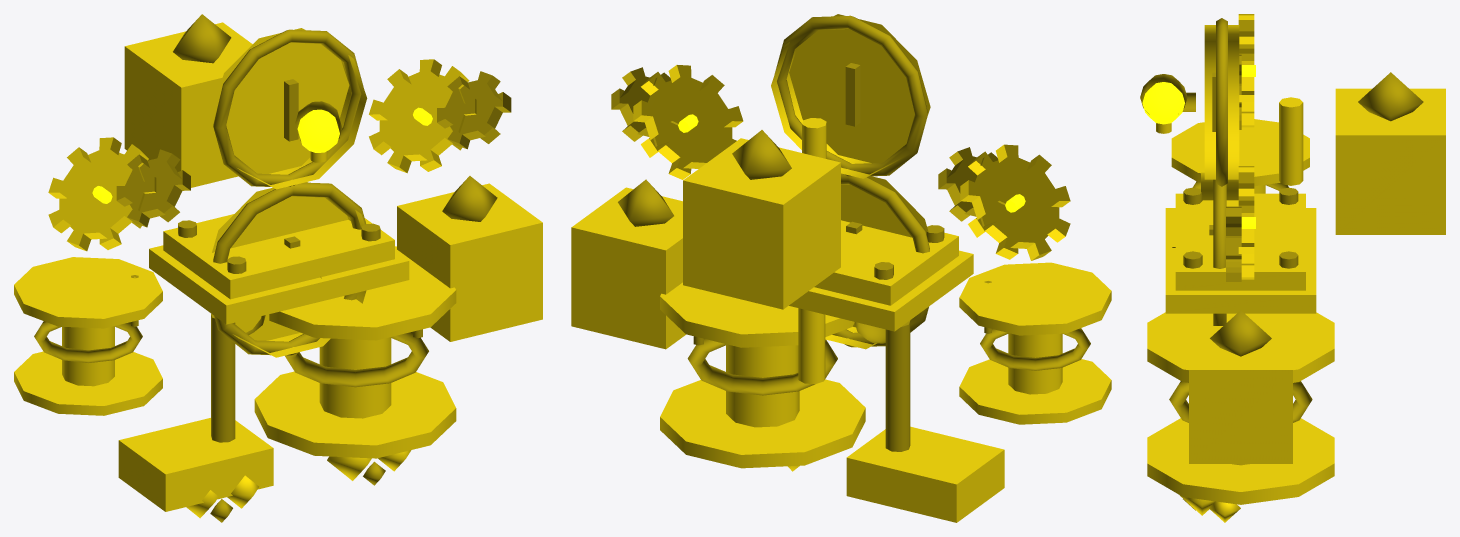
Rendered from golem_078.glb.
3 renders of one model, left to right at view 1: azimuth 30°, elevation 25°; view 2: azimuth 150°, elevation 25°; view 3: azimuth 270°, elevation 25°, orthographic. The views are drawn at different scales.
Visible parts, largest first — view 1: Body, Detail, Glow; view 2: Body, Detail; view 3: Body, Detail, Glow.
Boxes of the visible parts, x1=… form: Body: x1=14, y1=22, x2=542, y2=518; Detail: x1=34, y1=14, x2=511, y2=522; Glow: x1=92, y1=107, x2=432, y2=203; Body: x1=571, y1=14, x2=1111, y2=522; Detail: x1=611, y1=15, x2=1090, y2=451; Body: x1=1147, y1=14, x2=1445, y2=522; Detail: x1=1140, y1=18, x2=1423, y2=510; Glow: x1=1142, y1=65, x2=1255, y2=228.
Bounding box in the file's own units: 1.32 × 1.19 × 0.7282.
